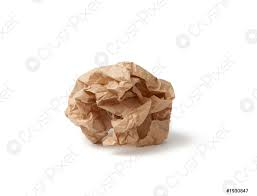crumpled paper: (65, 65, 179, 148)
